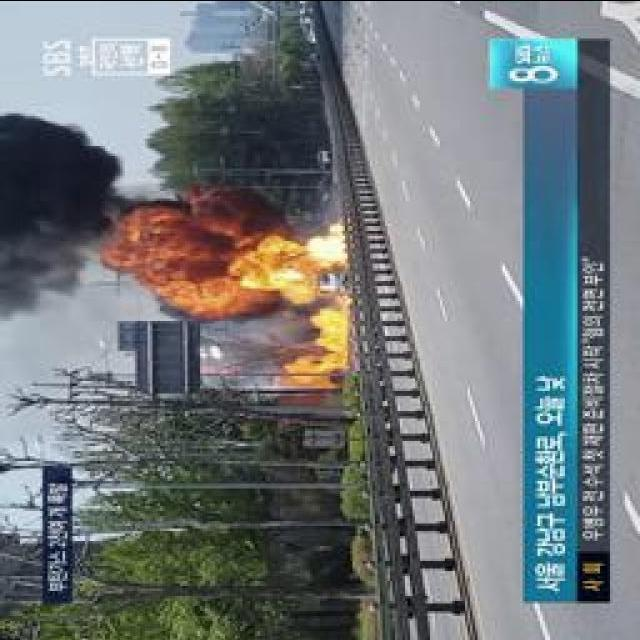Fire: (196, 240, 298, 300), (301, 308, 347, 382), (306, 237, 344, 264)
